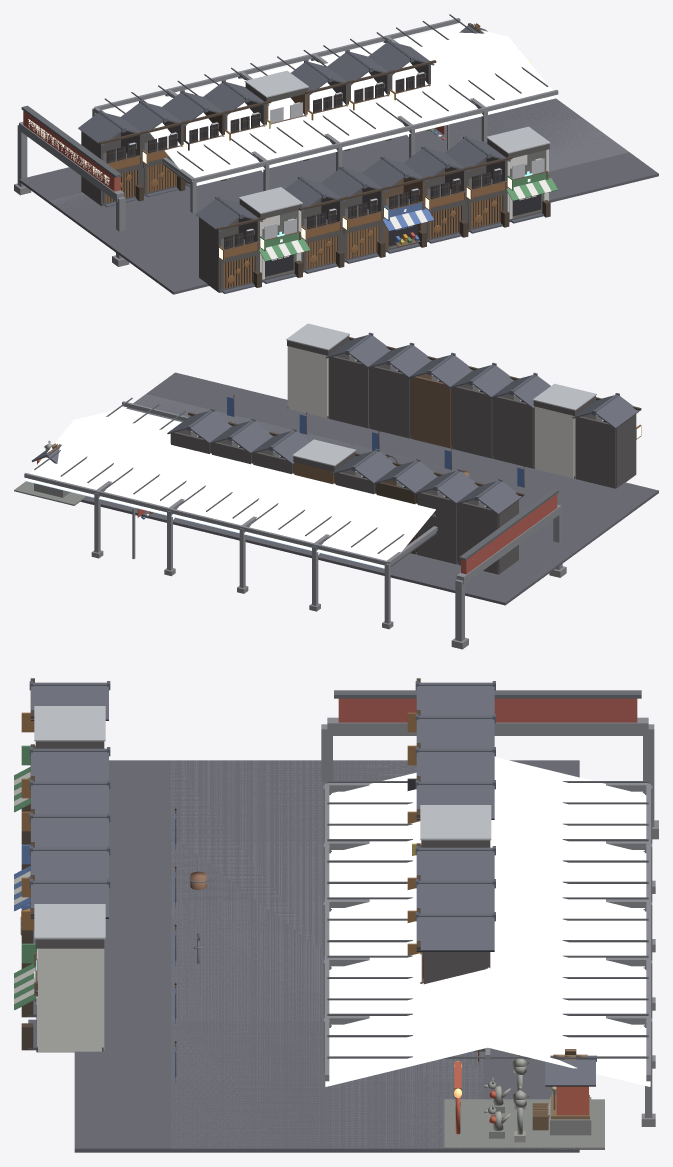
Rendered from prop_block_sabire.glb.
The picture shows the model from 3 angles, top to bottom: view 1: azimuth 30°, elevation 25°; view 2: azimuth 150°, elevation 25°; view 3: azimuth 270°, elevation 25°; orthographic projection. The views are drawn at different scales.
Parts seen in each view (by area): view 1: block_sabire; view 2: block_sabire; view 3: block_sabire.
Boxes of the visible parts, box(x1,y1,x2,y2) form: block_sabire: box(14, 14, 658, 294); block_sabire: box(14, 323, 658, 649); block_sabire: box(14, 678, 658, 1152).
Size of the model in its own units: 40 by 8.5 by 28.09.
